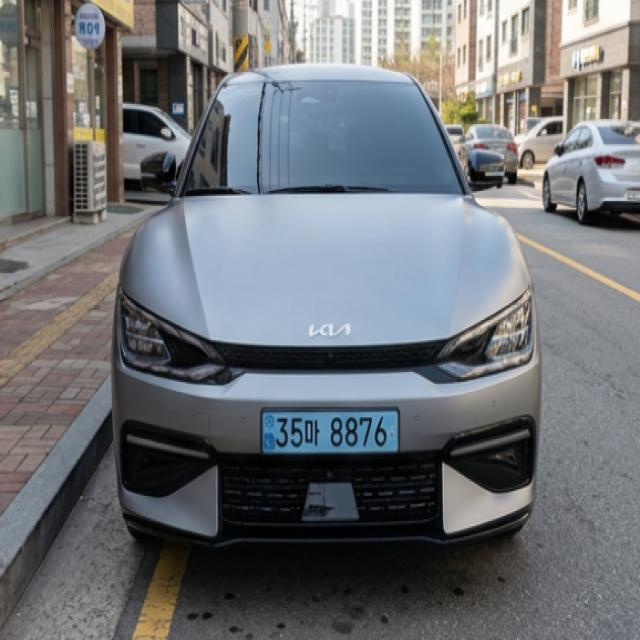car: (251, 398, 420, 479)
carev: (260, 409, 277, 459), (386, 409, 401, 457)
